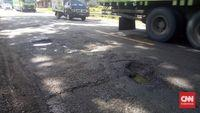Pothole: (36, 78, 116, 113), (119, 55, 174, 94), (67, 34, 122, 60), (30, 34, 63, 55)
